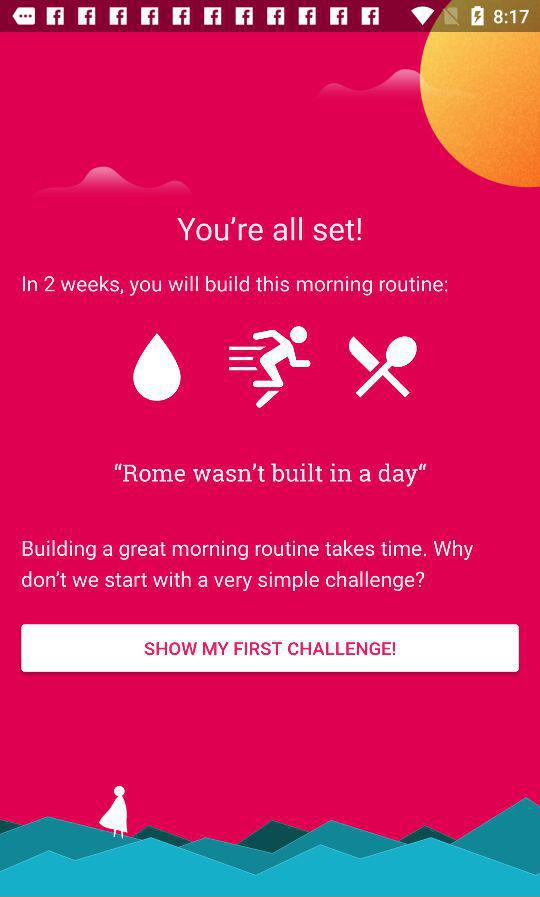BackgroundImage: (1, 33, 540, 897)
Image: (229, 325, 313, 410), (348, 336, 418, 399), (132, 332, 182, 402)
Text: (22, 539, 475, 593), (23, 275, 449, 297), (114, 463, 427, 488), (177, 217, 363, 243)
TextButton: (22, 624, 520, 673)
UpperTaskBar: (1, 1, 540, 33)
